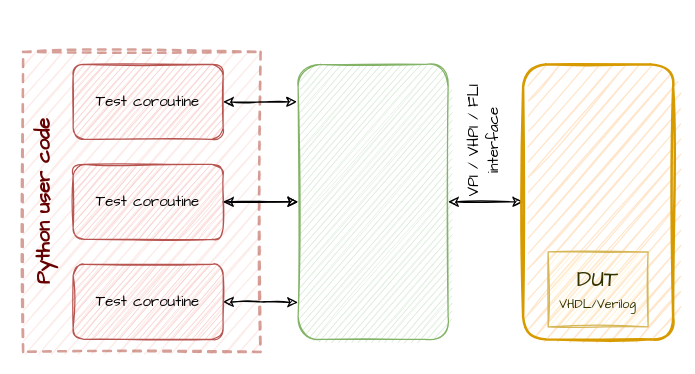
Some shapes in this 695 by 374 pixel diagram are drawn without their labels. Each missing label, with the box of its shape:
Cocotb: (297, 63, 448, 339)
RTL simulator Modelsim/Questa GHDL Icarus Verilog ...: (521, 62, 674, 340)
